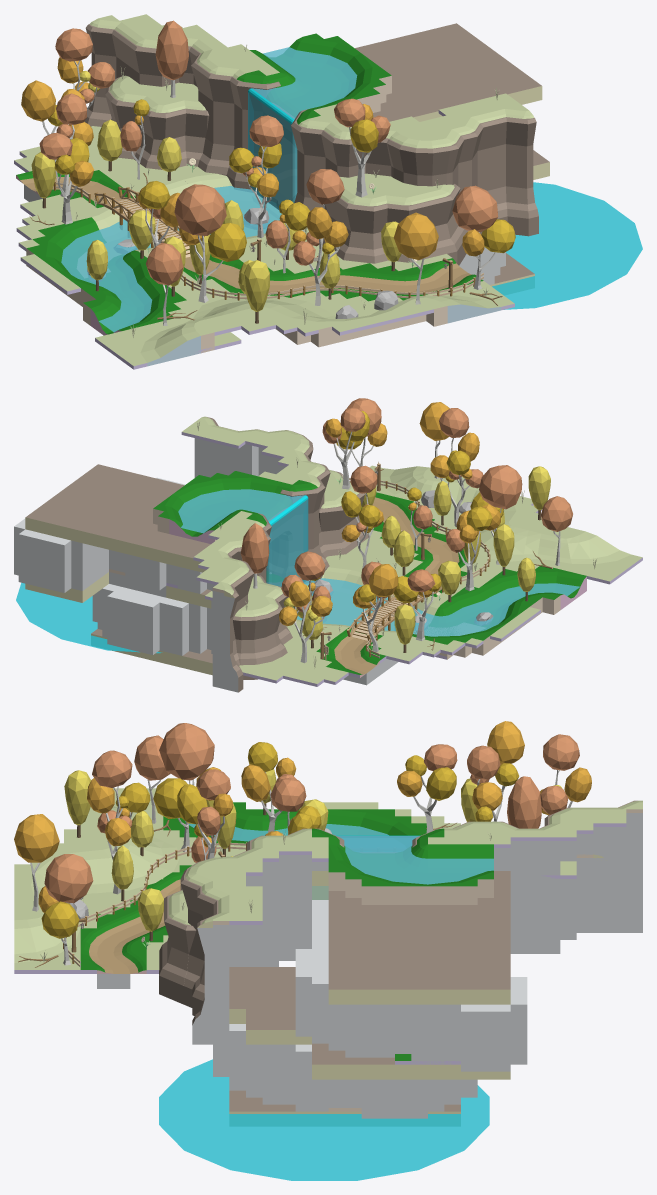
File: Autumn_Path_v2.glb
The picture shows the model from 3 angles, top to bottom: view 1: azimuth 30°, elevation 25°; view 2: azimuth 150°, elevation 25°; view 3: azimuth 270°, elevation 25°; orthographic projection. The views are drawn at different scales.
Parts seen in each view (by area): view 1: Water_Circle_1_Lowpoly__Cave Pool__0__0__1, Floor_And_Ceiling_Flat_1x1__Cliff__0__0__2, Grass_Hill_Sharp_Curve_Inner_6x6__Grass__0__0__2, Tree_Oak_5__Leaves Autumn Red__3__1__1, Grass_Hill_Grade_Transition_Curve_Outer_4x5__Grass Autumn__0 (×2), Grass_Hill_Sharp_Esse_4x4__Grass__0__0__1, Grass_Flat_1x1__Grass Autumn__2__0__53, Grass_Hill_Sharp_Curve_Inner_6x6__Grass__0__0__3, Tree_Oak_5__Leaves Autumn Red__3__0__1, Basic_Curve_Outer_3x3_Top__Cliff__0__0__1, Tree_Oak_3__Leaves Autumn Orange__1__1__1, Grass_Hill_Sharp_Curve_Inner_6x6__Grass__0__0__1 (+90 smaller); view 2: Floor_And_Ceiling_Flat_1x1__Cliff__0__0__2, Water_Circle_1_Lowpoly__Cave Pool__0__0__1, Grass_Hill_Grade_Transition_Curve_Outer_4x5__Grass Autumn__0 (×2), Grass_Hill_Sharp_Curve_Inner_6x6__Grass__0__0__3, Wall_Curve_Inner_7x7_Top__Hidden__3__0__2, Floor_And_Ceiling_Flat_1x1__Hidden_Yellow__1__0__2, Grass_Hill_Sharp_Curve_Inner_6x6__Grass__0__0__1, Wall_Curve_Inner_7x7_Base__Hidden__2__0__2, Tree_Oak_5__Leaves Autumn Red__3__1__1, Wall_Curve_Inner_3x3_Top__Hidden__2__0__1, Wall_Curve_Inner_3x3_Base__Hidden__2__0__1, Wall_Esse_4x6_Base__Hidden__2__1__1 (+73 smaller); view 3: Water_Circle_1_Lowpoly__Cave Pool__0__0__1, Floor_And_Ceiling_Flat_1x1__Cliff__0__0__2, Wall_Curve_Inner_7x7_Base__Hidden__2__0__1, Wall_Esse_4x6_Top__Hidden__1__0__1, Wall_Esse_4x6_Base__Hidden__2__0__1, Floor_And_Ceiling_Flat_1x1__Hidden_Yellow__1__0__4, Floor_And_Ceiling_Flat_1x1__Hidden_Yellow__1__0__2, Floor_And_Ceiling_Flat_1x1__Hidden_Yellow__1__0__8, Floor_And_Ceiling_Flat_1x1__Cliff__0__0__1, Wall_Curve_Inner_7x7_Top__Hidden__3__0__1, Wall_Curve_Inner_5x5_Top__Hidden__0__0__1, Wall_Curve_Inner_5x5_Base__Hidden__1__0__2 (+69 smaller).
Part boxes in pixels (x1,y1,x2,y2): Water_Circle_1_Lowpoly__Cave Pool__0__0__1: (492, 182, 642, 309); Floor_And_Ceiling_Flat_1x1__Cliff__0__0__2: (355, 23, 541, 121); Grass_Hill_Sharp_Curve_Inner_6x6__Grass__0__0__2: (27, 217, 106, 277); Tree_Oak_5__Leaves Autumn Red__3__1__1: (174, 184, 226, 235); Grass_Hill_Grade_Transition_Curve_Outer_4x5__Grass Autumn__0 (×2): (140, 295, 500, 362); Grass_Hill_Sharp_Esse_4x4__Grass__0__0__1: (277, 33, 360, 72); Grass_Flat_1x1__Grass Autumn__2__0__53: (95, 313, 240, 365); Grass_Hill_Sharp_Curve_Inner_6x6__Grass__0__0__3: (323, 53, 391, 106); Tree_Oak_5__Leaves Autumn Red__3__0__1: (452, 185, 498, 232); Basic_Curve_Outer_3x3_Top__Cliff__0__0__1: (387, 140, 449, 175); Tree_Oak_3__Leaves Autumn Orange__1__1__1: (394, 212, 438, 259); Grass_Hill_Sharp_Curve_Inner_6x6__Grass__0__0__1: (107, 279, 186, 334); Floor_And_Ceiling_Flat_1x1__Cliff__0__0__2: (26, 464, 210, 557); Water_Circle_1_Lowpoly__Cave Pool__0__0__1: (16, 582, 162, 653); Grass_Hill_Grade_Transition_Curve_Outer_4x5__Grass Autumn__0 (×2): (380, 466, 630, 563); Grass_Hill_Sharp_Curve_Inner_6x6__Grass__0__0__3: (173, 471, 280, 510); Wall_Curve_Inner_7x7_Top__Hidden__3__0__2: (130, 592, 211, 631); Floor_And_Ceiling_Flat_1x1__Hidden_Yellow__1__0__2: (25, 517, 205, 572); Grass_Hill_Sharp_Curve_Inner_6x6__Grass__0__0__1: (479, 565, 586, 604); Wall_Curve_Inner_7x7_Base__Hidden__2__0__2: (130, 625, 211, 655); Tree_Oak_5__Leaves Autumn Red__3__1__1: (479, 465, 522, 509); Wall_Curve_Inner_3x3_Top__Hidden__2__0__1: (41, 535, 95, 569); Wall_Curve_Inner_3x3_Base__Hidden__2__0__1: (41, 558, 95, 592); Wall_Esse_4x6_Base__Hidden__2__1__1: (148, 563, 211, 593); Water_Circle_1_Lowpoly__Cave Pool__0__0__1: (159, 1059, 489, 1180); Floor_And_Ceiling_Flat_1x1__Cliff__0__0__2: (328, 871, 510, 989); Wall_Curve_Inner_7x7_Base__Hidden__2__0__1: (213, 1047, 328, 1111); Wall_Esse_4x6_Top__Hidden__1__0__1: (378, 1004, 477, 1041); Wall_Esse_4x6_Base__Hidden__2__0__1: (378, 1027, 477, 1071); Floor_And_Ceiling_Flat_1x1__Hidden_Yellow__1__0__4: (229, 1111, 460, 1125); Floor_And_Ceiling_Flat_1x1__Hidden_Yellow__1__0__2: (328, 989, 510, 1004); Floor_And_Ceiling_Flat_1x1__Hidden_Yellow__1__0__8: (312, 1064, 510, 1079); Floor_And_Ceiling_Flat_1x1__Cliff__0__0__1: (229, 967, 295, 1008); Wall_Curve_Inner_7x7_Top__Hidden__3__0__1: (213, 1024, 328, 1081); Wall_Curve_Inner_5x5_Top__Hidden__0__0__1: (295, 963, 378, 1027); Wall_Curve_Inner_5x5_Base__Hidden__1__0__2: (295, 1007, 378, 1057).
Size of the model in its own units: 44.59 by 17.1 by 38.02.
